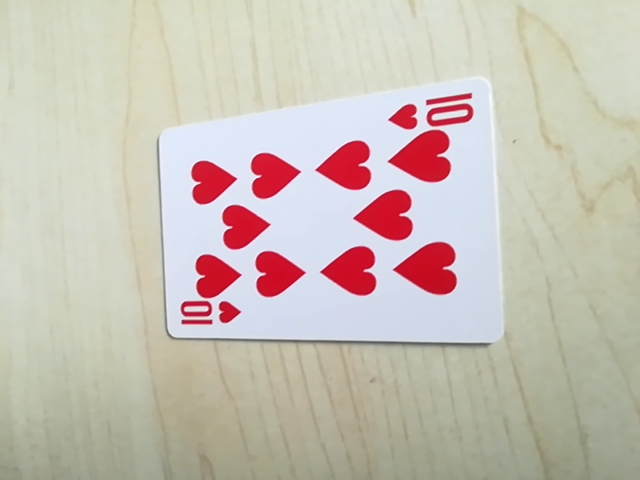hx 10: (387, 88, 479, 134), (172, 297, 242, 334)
